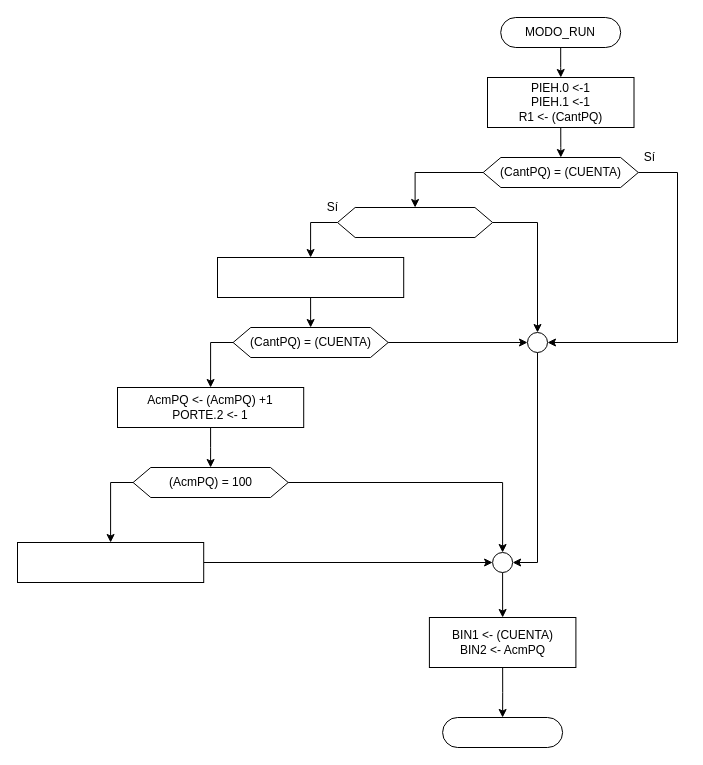
Image size: 703x765. Some labels were removed from this diagram. The centre of each missing label's shape, as x and y in pixels:
(TIMER_CUENTA) = 0: point (414, 222)
AcmPQ <- 0: point (110, 562)
REGRESA: point (502, 732)
TIMER_CUENTA <- (CantPQ) CUENTA <- (CUENTA) +1: point (310, 277)
